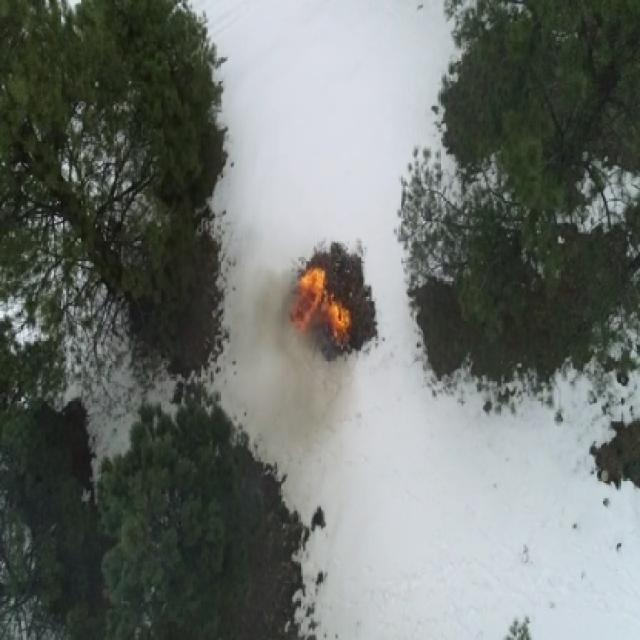Fire: (314, 297, 351, 325), (302, 270, 325, 312), (328, 316, 348, 345), (292, 306, 308, 330)
